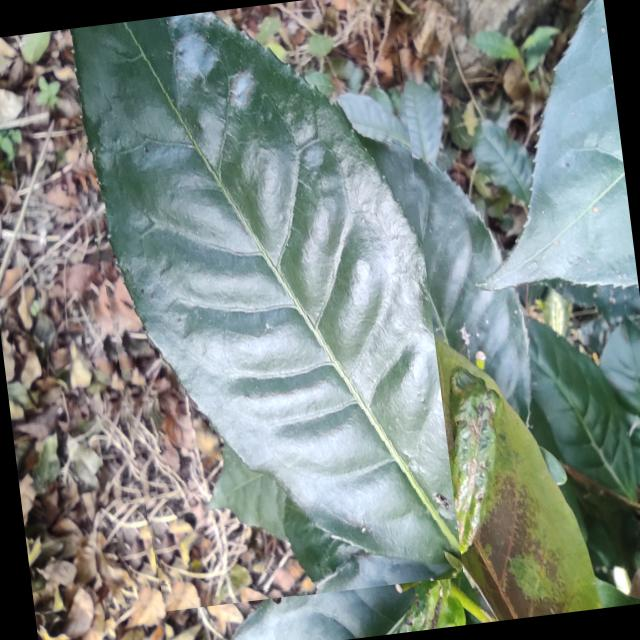Category D(7+ days, Not for Tea): (56, 0, 462, 617)
